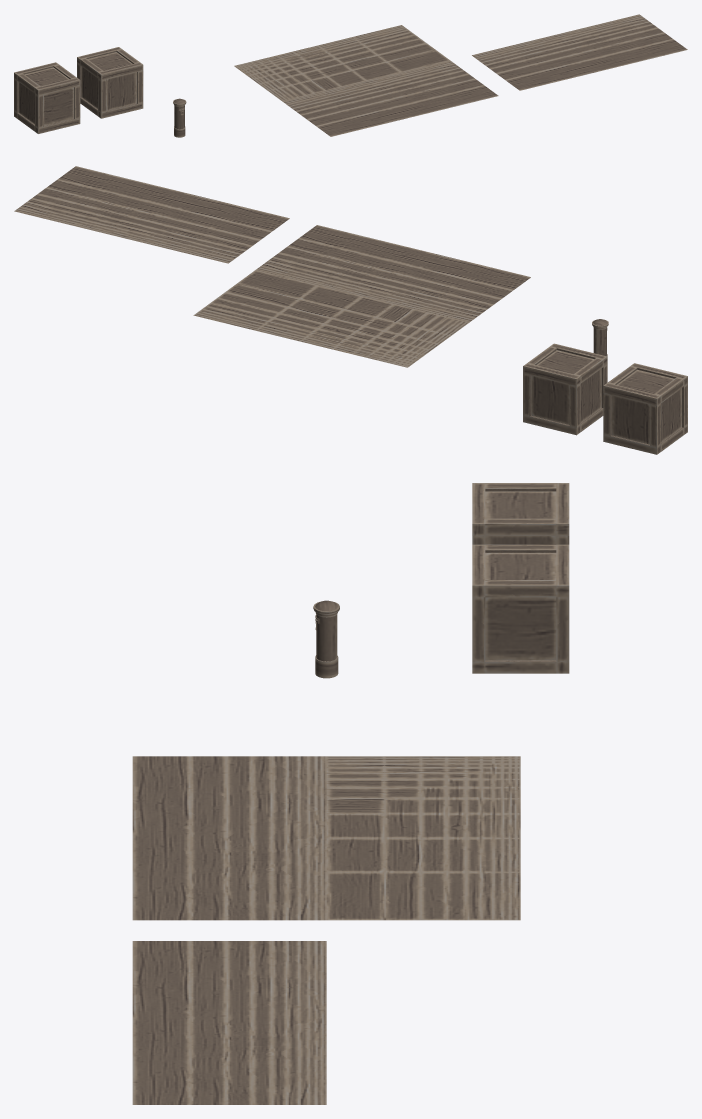
Rendered from Retro_Trim_Texturing.fbx.
3 views of the same model, one above another, from view 1: azimuth 30°, elevation 25°; view 2: azimuth 150°, elevation 25°; view 3: azimuth 270°, elevation 25° (orthographic). The views are drawn at different scales.
Parts seen in each view (by area): view 1: HotSpot_Atlas, Trim_atlas, Crate_01_HotspotUvs, Crate_02_HotspotUvs, PostBox_HotspotUvs; view 2: HotSpot_Atlas, Trim_atlas, Crate_01_HotspotUvs, Crate_02_HotspotUvs, PostBox_HotspotUvs; view 3: HotSpot_Atlas, Trim_atlas, Crate_02_HotspotUvs, Crate_01_HotspotUvs, PostBox_HotspotUvs.
Part boxes in pixels (box(x1,y1,x2,y2)): HotSpot_Atlas: box(234, 25, 498, 136); Trim_atlas: box(472, 14, 687, 90); Crate_01_HotspotUvs: box(14, 62, 80, 133); Crate_02_HotspotUvs: box(77, 47, 143, 118); PostBox_HotspotUvs: box(173, 98, 186, 137); HotSpot_Atlas: box(193, 225, 530, 367); Trim_atlas: box(14, 166, 289, 263); Crate_01_HotspotUvs: box(603, 363, 687, 454); Crate_02_HotspotUvs: box(523, 343, 607, 435); PostBox_HotspotUvs: box(592, 319, 608, 356); HotSpot_Atlas: box(132, 756, 520, 920); Trim_atlas: box(132, 941, 326, 1104); Crate_02_HotspotUvs: box(472, 544, 569, 673); Crate_01_HotspotUvs: box(472, 483, 569, 544); PostBox_HotspotUvs: box(313, 600, 339, 678).
Bounding box in the file's own units: 26.88 × 2 × 9.
1 material, 1 textured.
